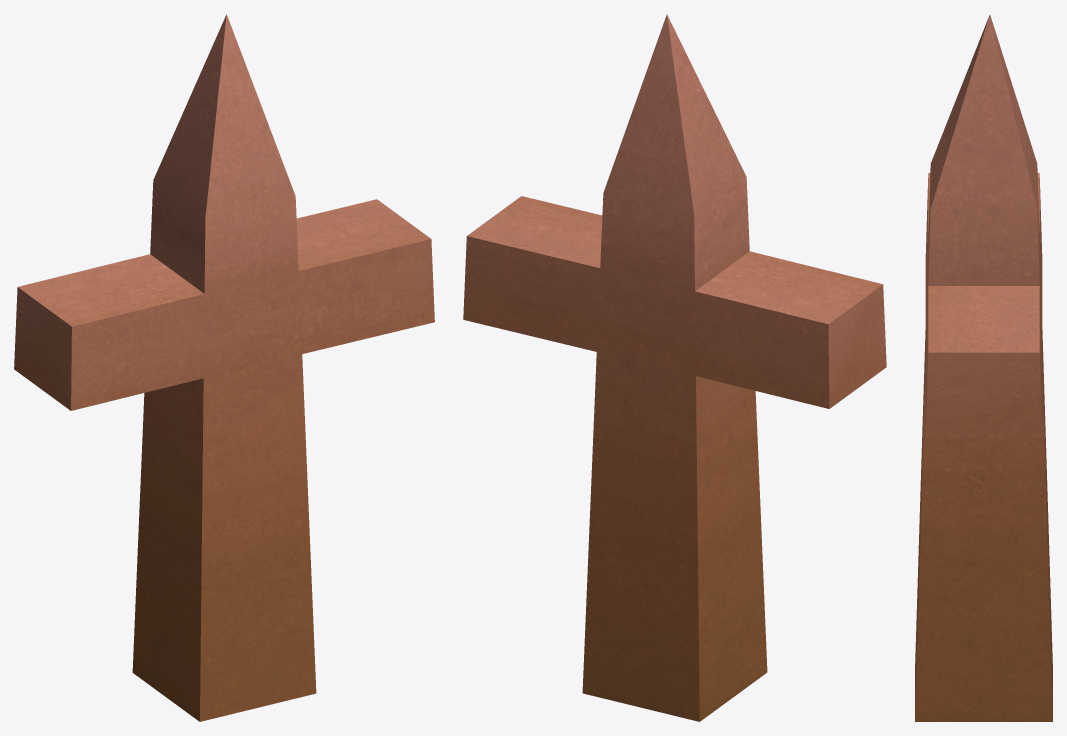
File: 봄_울타리2.FBX
3 renders of one model, left to right at view 1: azimuth 30°, elevation 25°; view 2: azimuth 150°, elevation 25°; view 3: azimuth 270°, elevation 25°, orthographic. The views are drawn at different scales.
Parts seen in each view (by area): view 1: Box001; view 2: Box001; view 3: Box001.
Part boxes in pixels (<box>): Box001: <box>14,14,434,721</box>; Box001: <box>463,14,886,721</box>; Box001: <box>915,14,1052,721</box>.
Bounding box in the file's own units: 30.25 × 52.89 × 9.69.
Materials: 1 (1 with a texture image).
